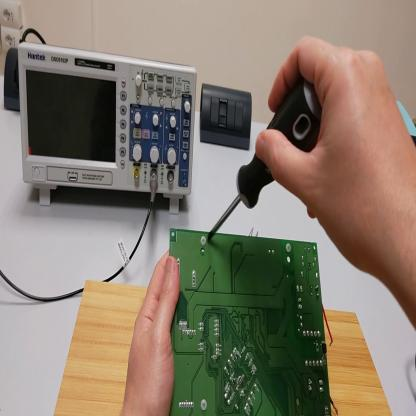hand: (257, 37, 415, 284), (119, 251, 182, 416)
low voltage board: (169, 225, 338, 416)
oscilloscope: (20, 43, 199, 216)
screwdriver-: (208, 78, 318, 238)
socket: (4, 50, 22, 111)
welder station: (397, 101, 415, 144)
working area: (55, 280, 392, 414)
